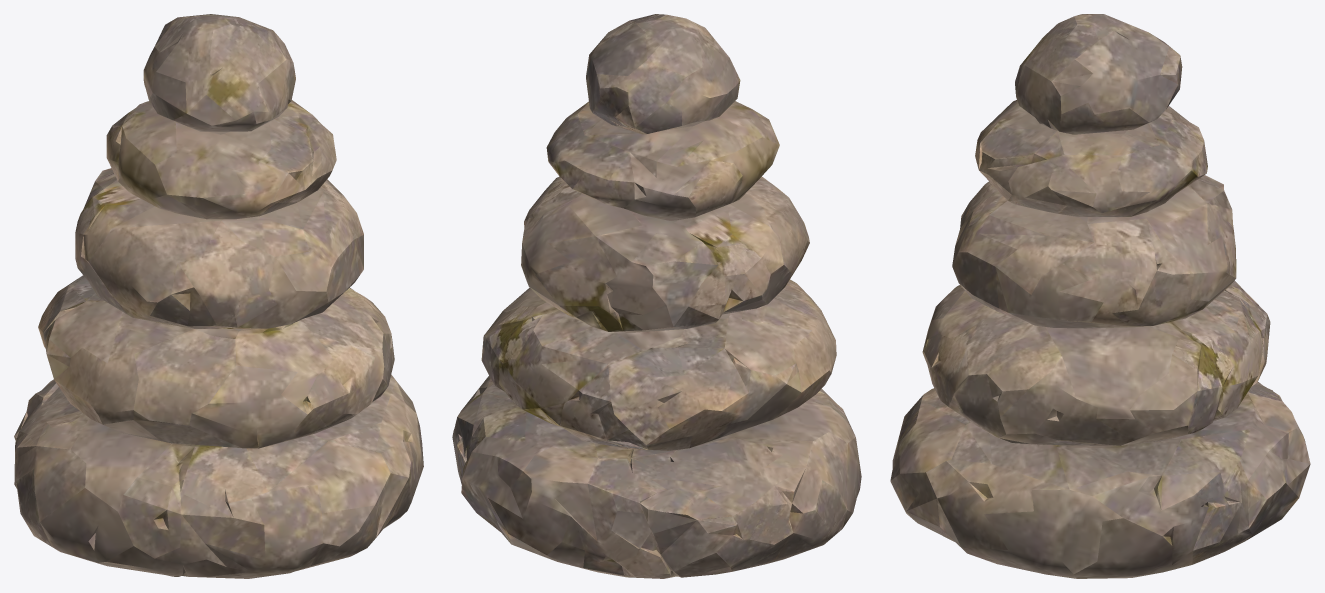
The model's file is cairn.glb.
3 views of the same model, side by side, from view 1: azimuth 30°, elevation 25°; view 2: azimuth 150°, elevation 25°; view 3: azimuth 270°, elevation 25° (orthographic).
Bounding box in the file's own units: 1.44 × 1.89 × 1.45.
Materials: 1 (1 with a texture image).
